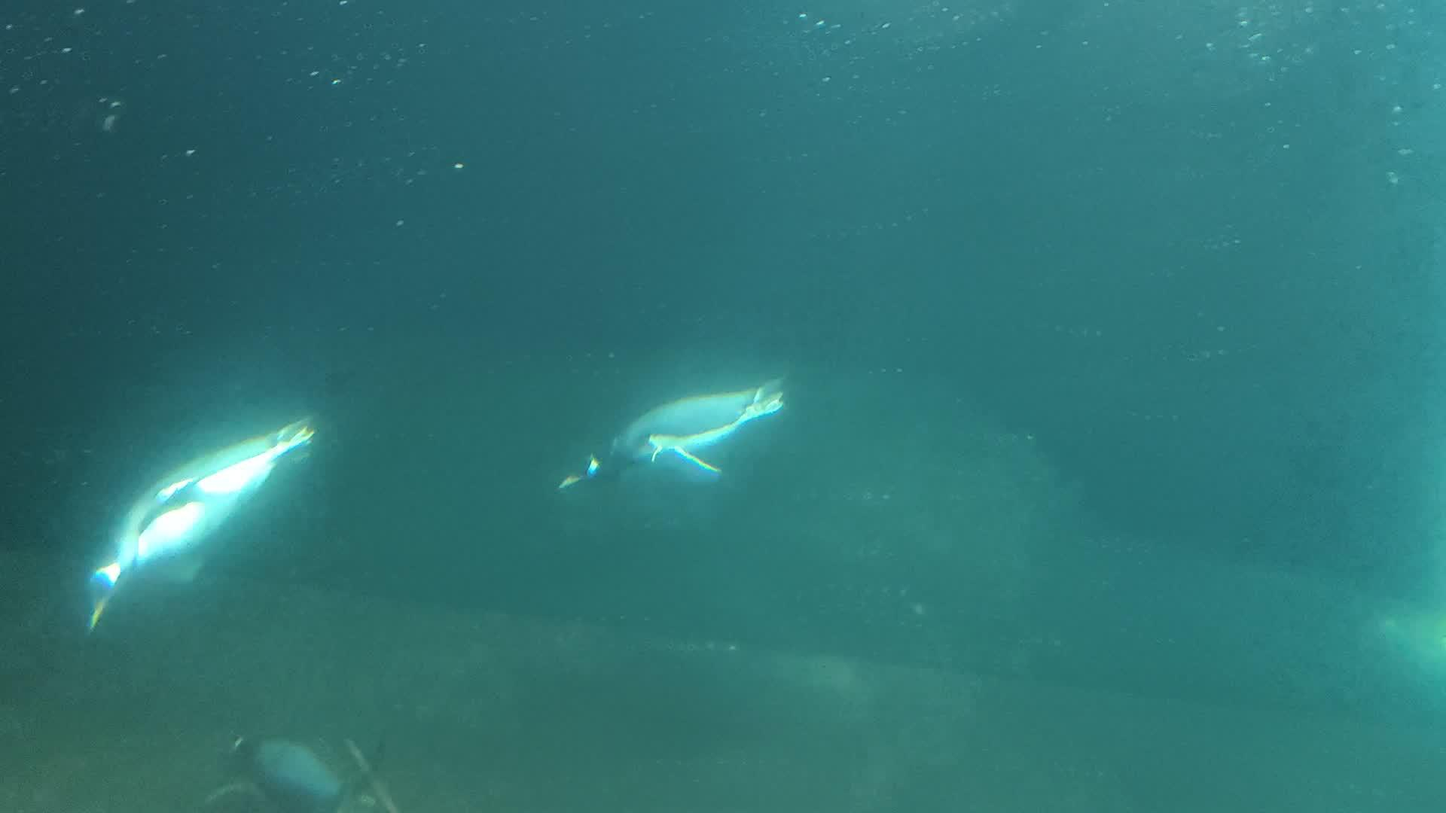apple: (88, 414, 319, 631), (558, 377, 785, 489)
